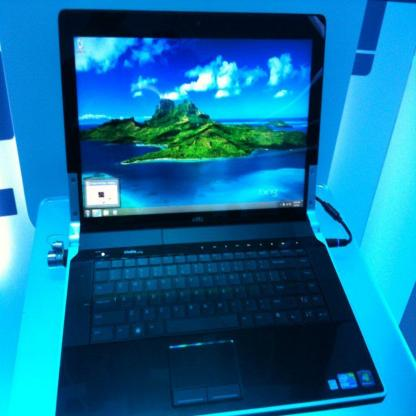board: (41, 12, 378, 407)
